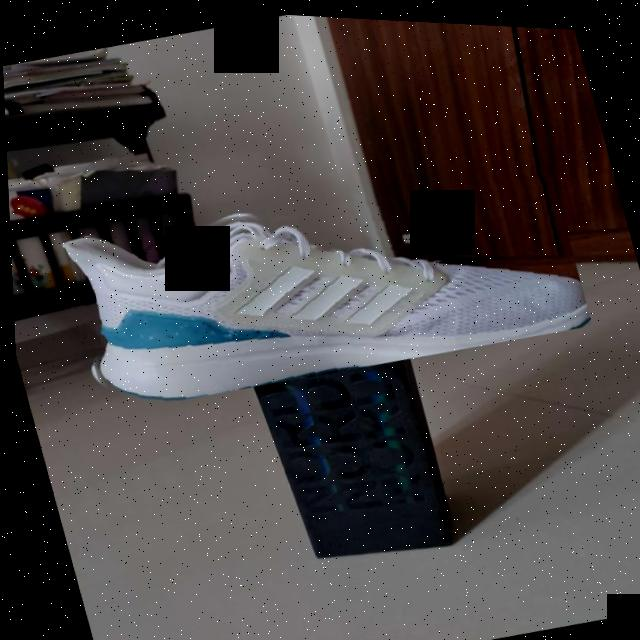shoe: (46, 126, 594, 434)
